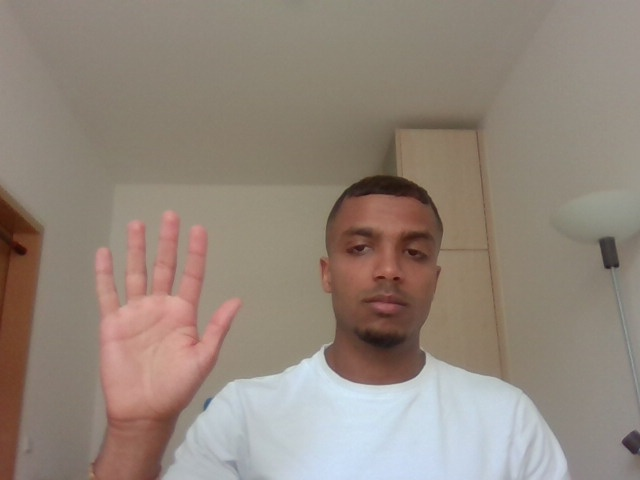never: (63, 197, 247, 439)
